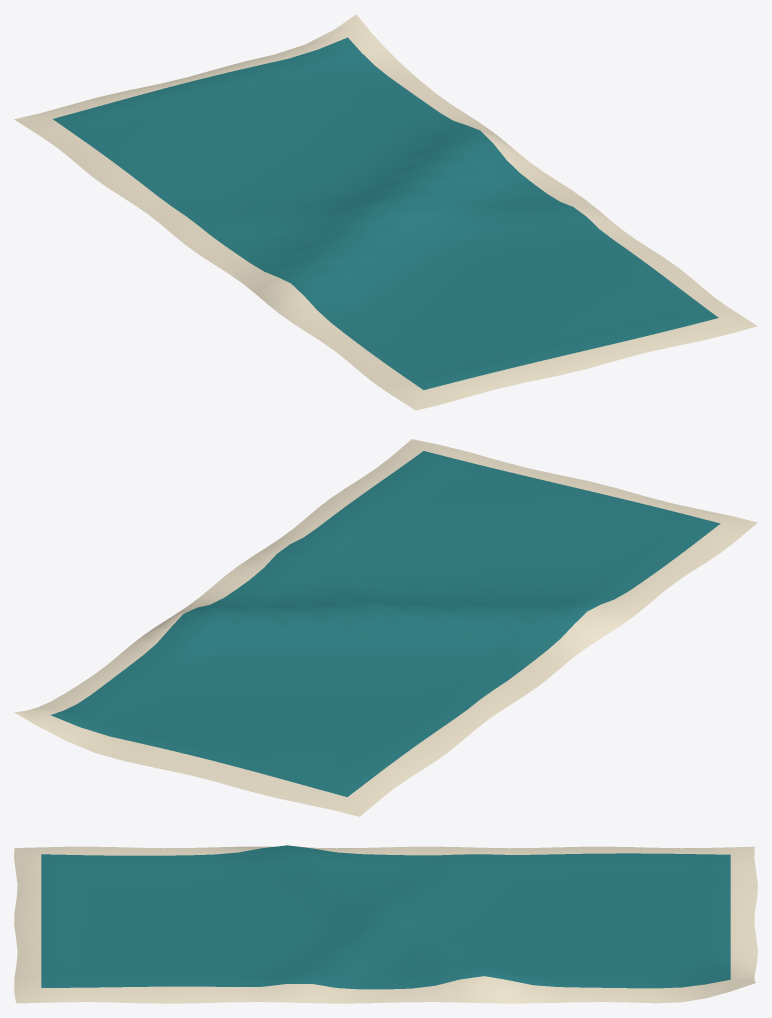
The model's file is towel_c.glb.
3 views of the same model, one above another, from view 1: azimuth 30°, elevation 25°; view 2: azimuth 150°, elevation 25°; view 3: azimuth 270°, elevation 25° (orthographic). The views are drawn at different scales.
Parts seen in each view (by area): view 1: towel_c; view 2: towel_c; view 3: towel_c.
Part boxes in pixels (x1=…): towel_c: x1=14, y1=14, x2=757, y2=410; towel_c: x1=14, y1=439, x2=757, y2=816; towel_c: x1=14, y1=845, x2=757, y2=1003.
Bounding box in the file's own units: 0.7978 × 0.0456 × 1.6.
